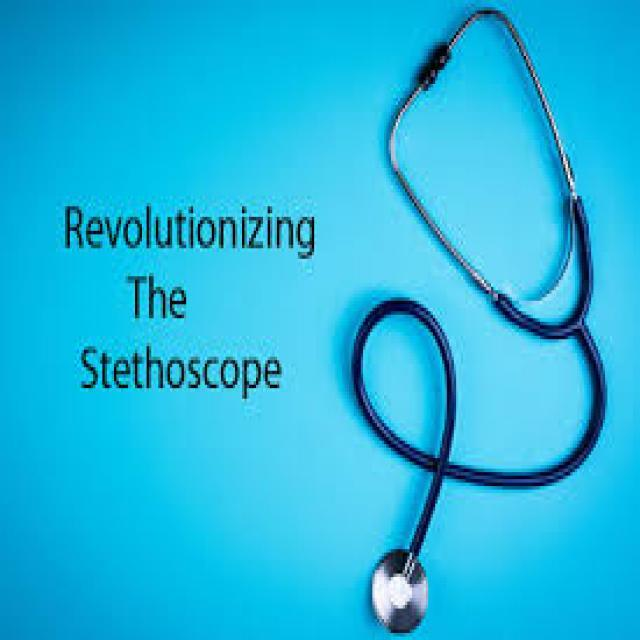stethoscope: (347, 4, 617, 630)
